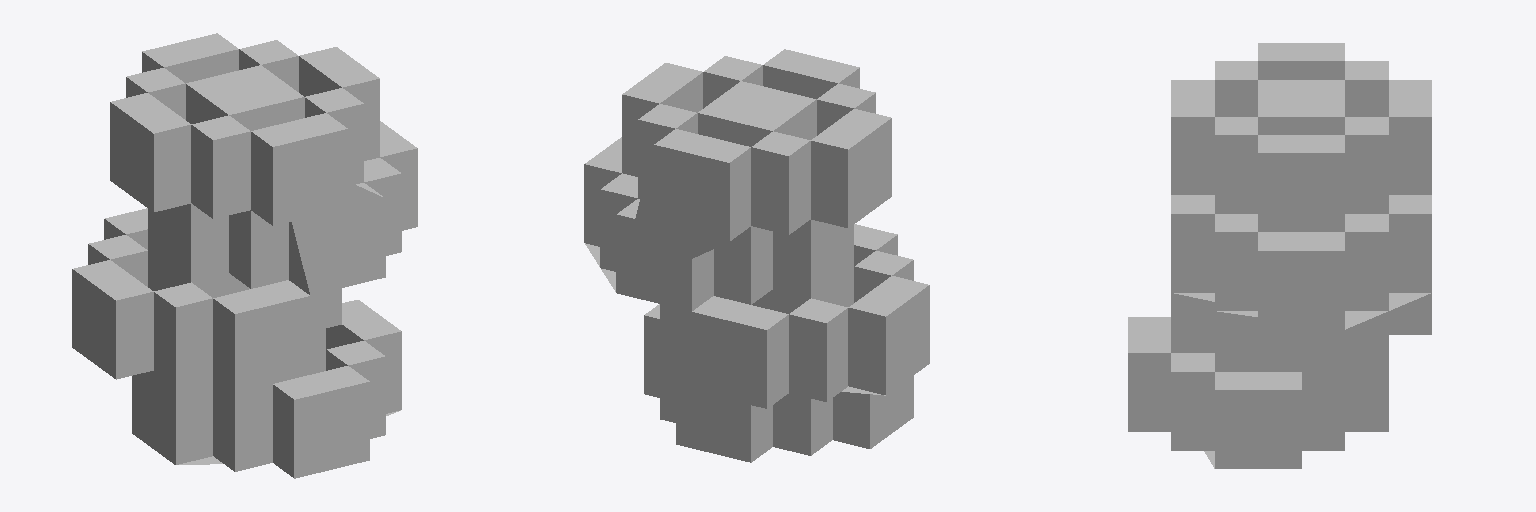
File: Coins_2_Gold.obj
3 renders of one model, left to right at view 1: azimuth 30°, elevation 25°; view 2: azimuth 150°, elevation 25°; view 3: azimuth 270°, elevation 25°, orthographic.
Parts seen in each view (by area): view 1: Coins_2_Gold_Coins_2_Gold.001; view 2: Coins_2_Gold_Coins_2_Gold.001; view 3: Coins_2_Gold_Coins_2_Gold.001.
Part boxes in pixels (left/top/right/bottom): Coins_2_Gold_Coins_2_Gold.001: left=72, top=33, right=417, bottom=478; Coins_2_Gold_Coins_2_Gold.001: left=584, top=49, right=929, bottom=462; Coins_2_Gold_Coins_2_Gold.001: left=1128, top=43, right=1431, bottom=468.
Bounding box in the file's own units: 0.8 × 0.8 × 0.7.